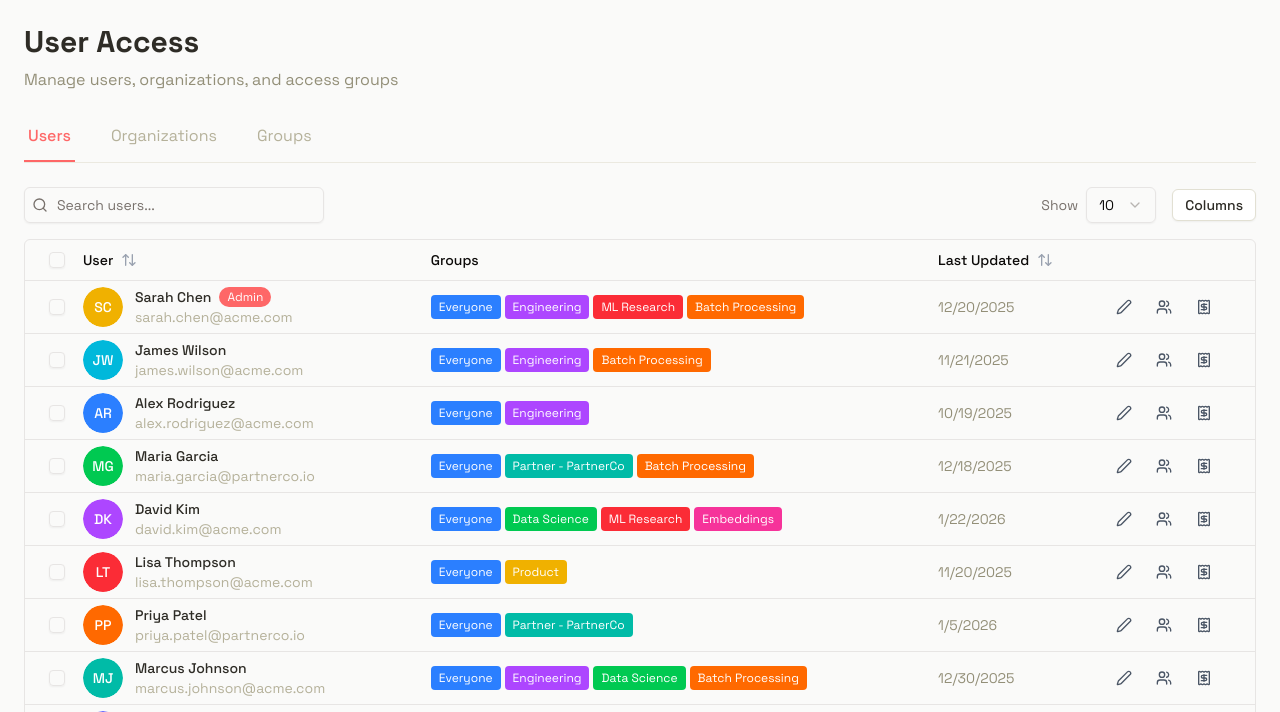
Test: UsersGroups Component › User Management Journey › retains model-group management in the SSO dashboard
Expected: the text "Sarah Chen" is shown, [135,286,212,306]
What coordinates should you click on to do the following:
click the button named "Manage groups" in the row of "Sarah Chen"
I would click on:
 (1164, 306)
Its box is [1148,290,1180,322].
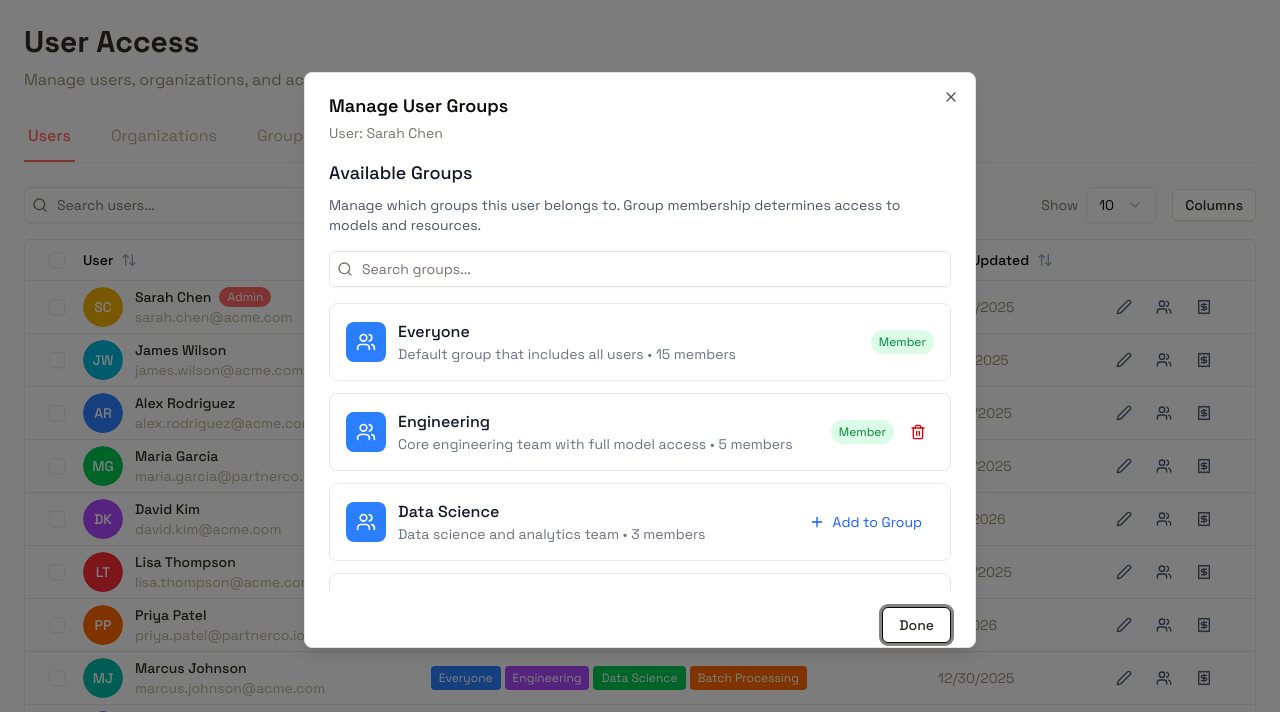
Now the button "Done" is shown, box [882,607,951,643]
